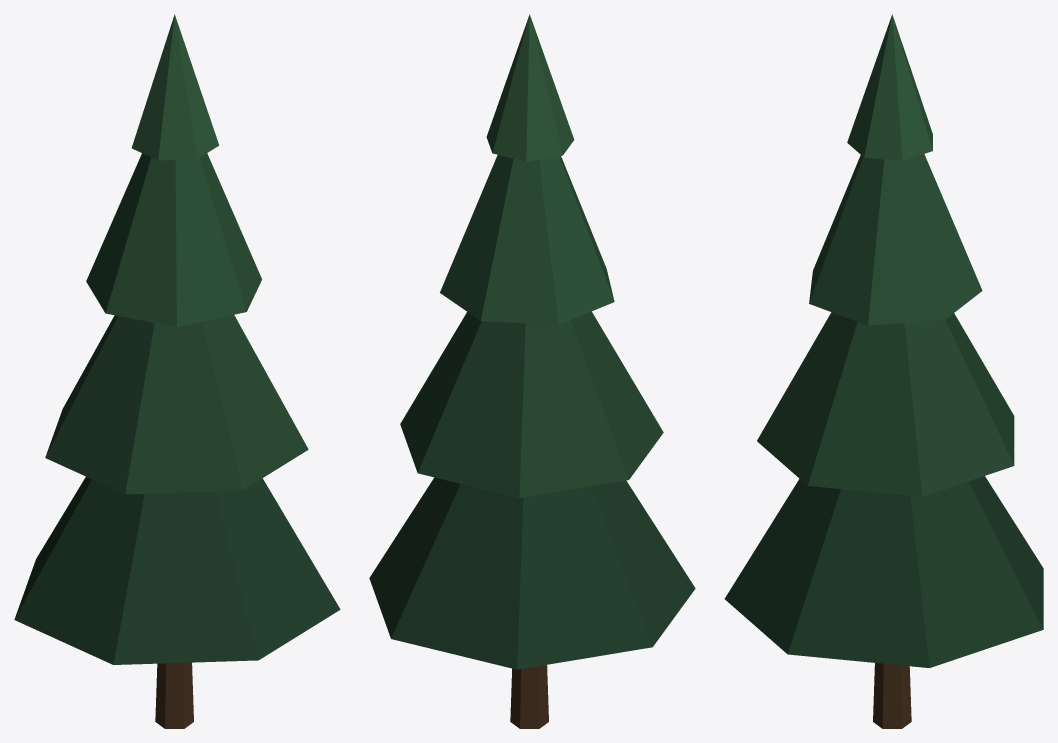
The model's file is tree_conifer.glb.
The picture shows the model from 3 angles, left to right: view 1: azimuth 30°, elevation 25°; view 2: azimuth 150°, elevation 25°; view 3: azimuth 270°, elevation 25°; orthographic projection.
Parts seen in each view (by area): view 1: tree_conifer; view 2: tree_conifer; view 3: tree_conifer.
Boxes of the visible parts, box(x1,y1,x2,y2) form: tree_conifer: box(14, 14, 340, 728); tree_conifer: box(369, 14, 695, 728); tree_conifer: box(724, 14, 1043, 728).
Bounding box in the file's own units: 5.07 × 12.1 × 4.94.
